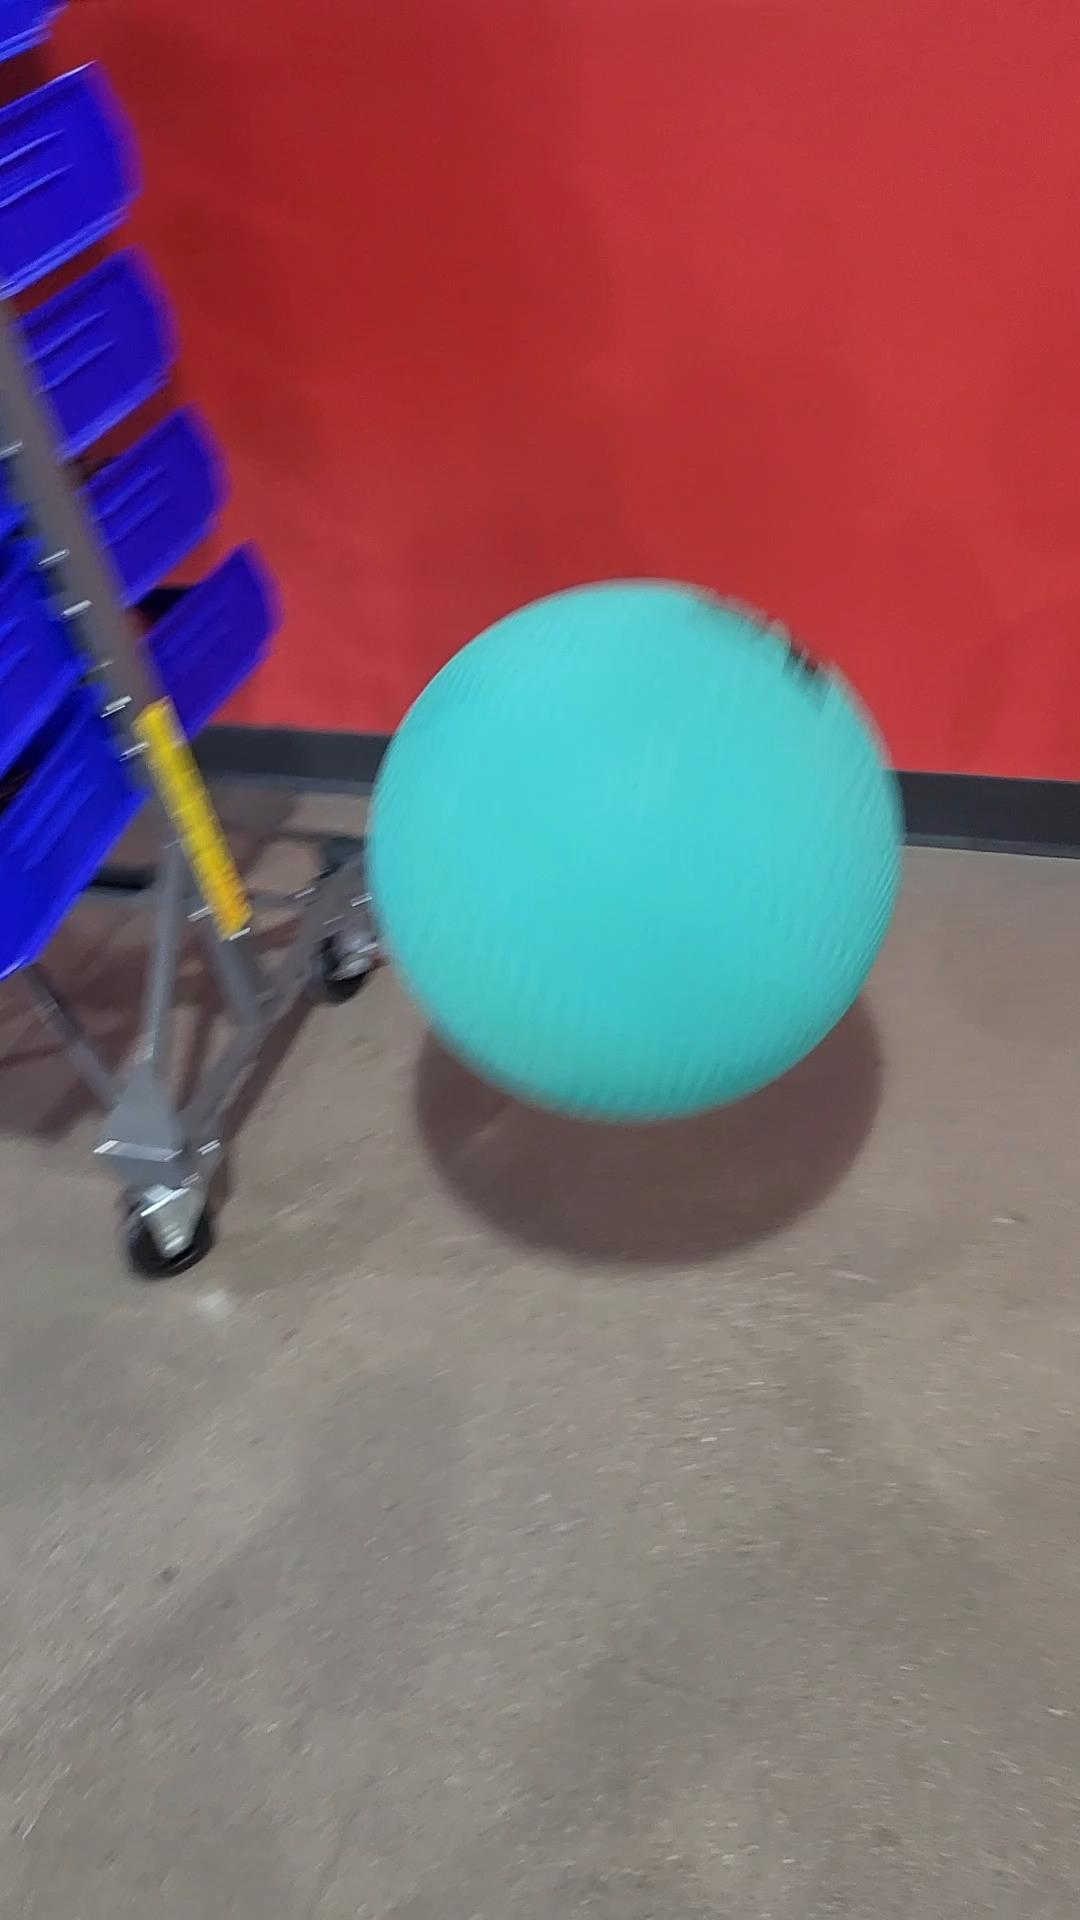algae: (371, 582, 898, 1105)
